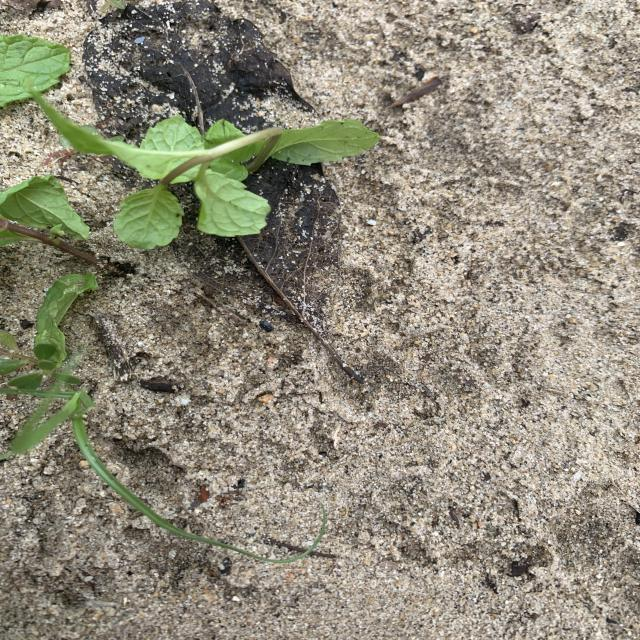crop: (42, 107, 379, 248), (0, 175, 104, 348)
weed: (0, 389, 326, 564), (0, 331, 80, 391), (100, 1, 123, 12)
